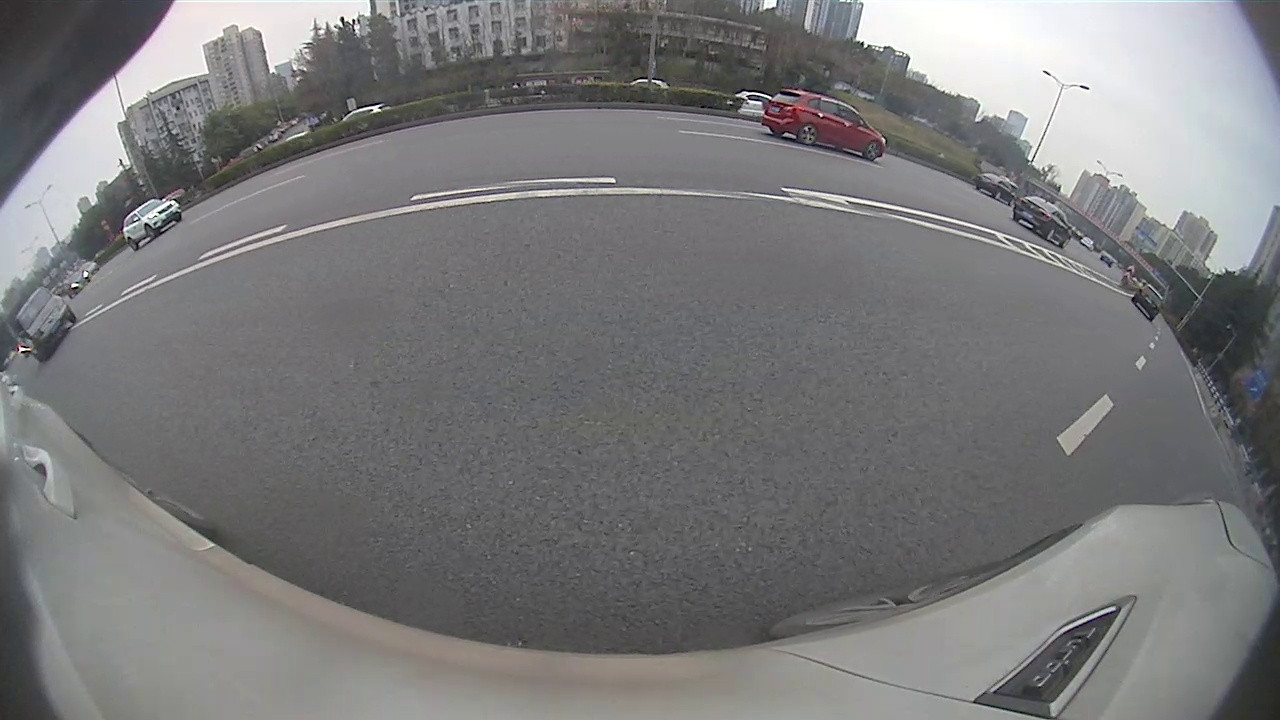car: (766, 89, 886, 162), (11, 288, 76, 362), (122, 199, 182, 251), (1014, 196, 1071, 249), (972, 173, 1020, 204), (1132, 283, 1163, 319)
front: (863, 140, 884, 163), (145, 224, 158, 240)
rear: (798, 123, 820, 148), (127, 237, 140, 250)
